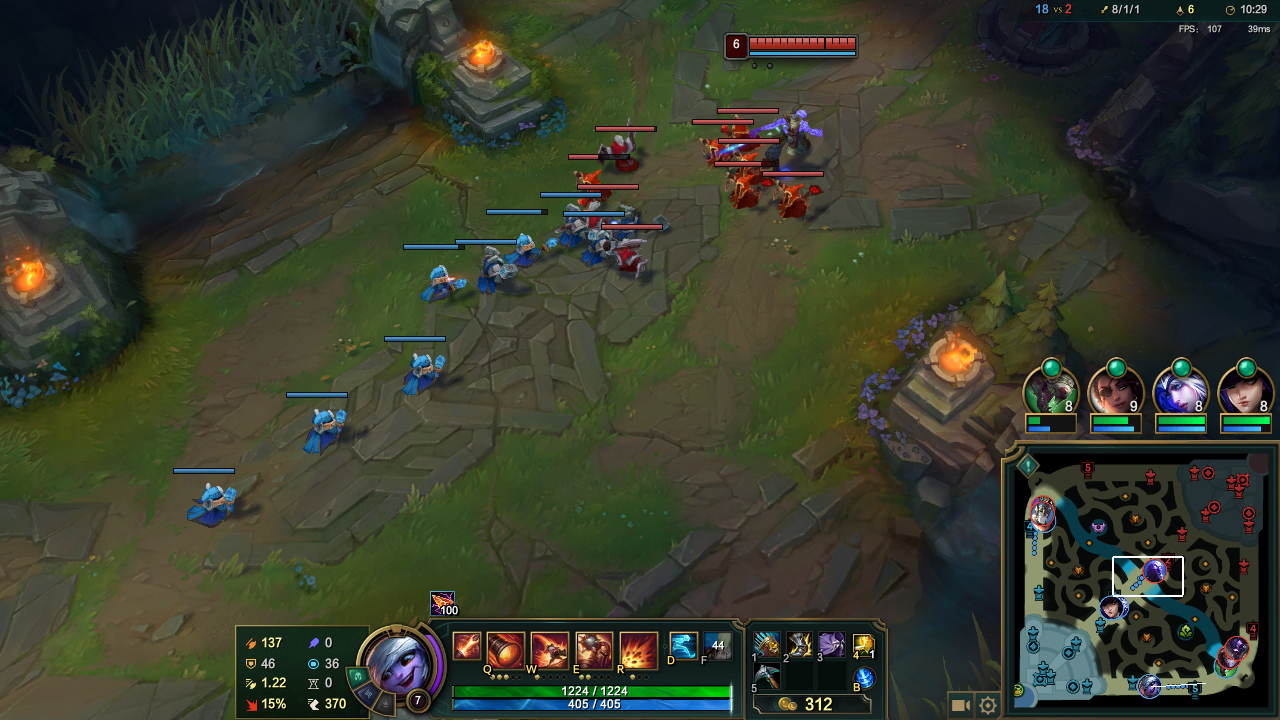DFXB: (593, 127, 658, 188), (769, 174, 829, 228), (609, 235, 658, 287), (693, 129, 741, 172), (571, 161, 616, 206), (723, 172, 770, 214), (719, 116, 764, 157)
DFYX: (752, 37, 810, 55)
WFXB: (178, 482, 247, 529), (395, 347, 452, 399), (291, 407, 353, 454), (501, 227, 558, 267), (474, 245, 517, 293), (412, 262, 466, 299), (557, 212, 601, 252), (579, 225, 622, 262)
